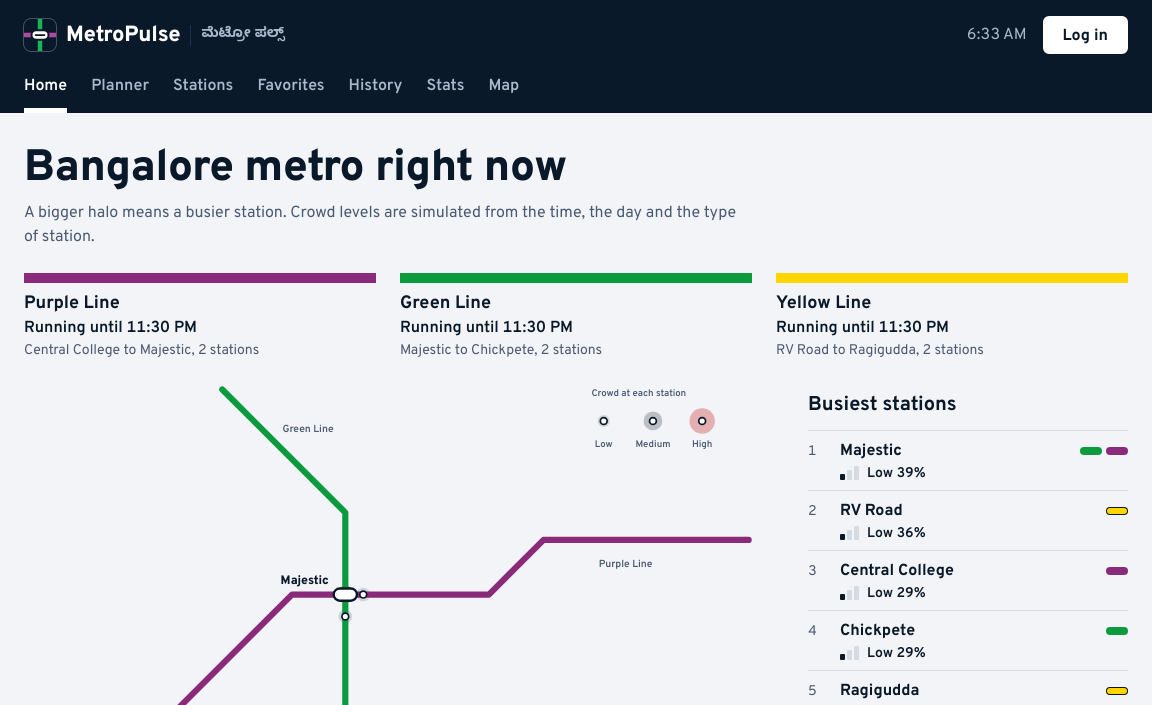
Test: a wrong password is not treated as an expired session
Expected: the heading "Bangalore metro right now" is shown, top-left (24, 141), bottom-right (567, 197)
Step 1. Click the button "Log in" → (1085, 35), box top-left (1042, 16), bottom-right (1128, 54)
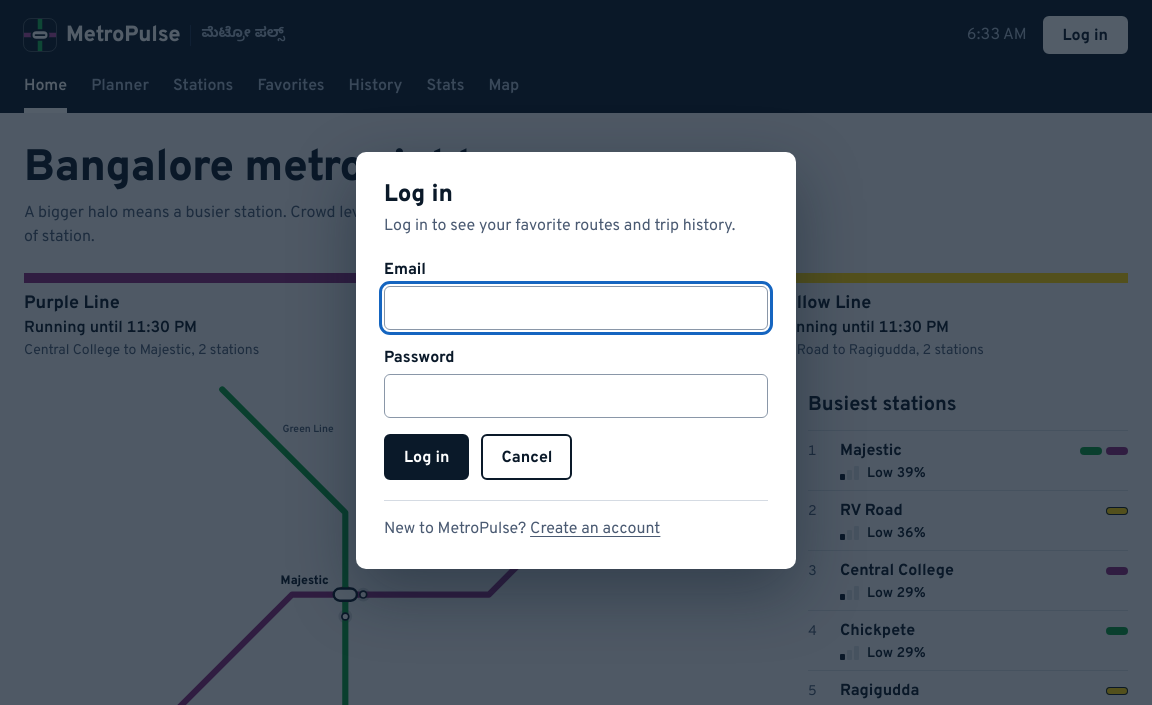
Step 2. Type "asha@example.com" into the field labelled "Email" → (576, 308), box top-left (384, 286), bottom-right (768, 330)
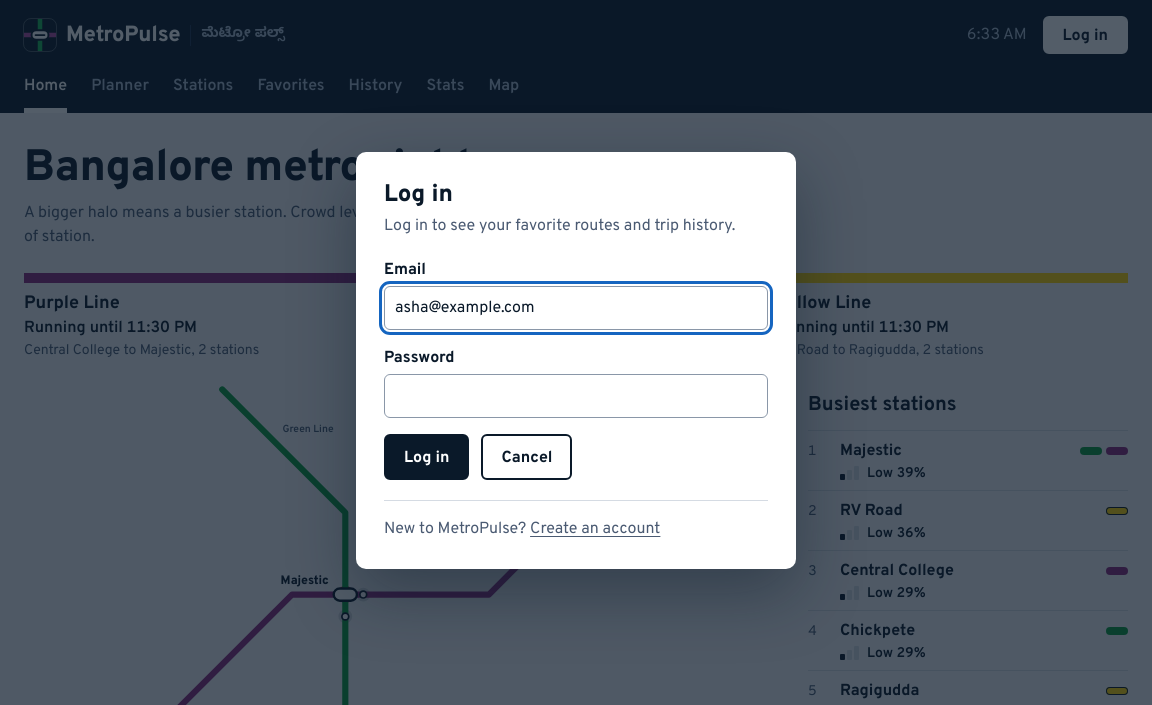
Step 3. Type "nope" into the password field labelled "Password" → (576, 396), box top-left (384, 374), bottom-right (768, 418)
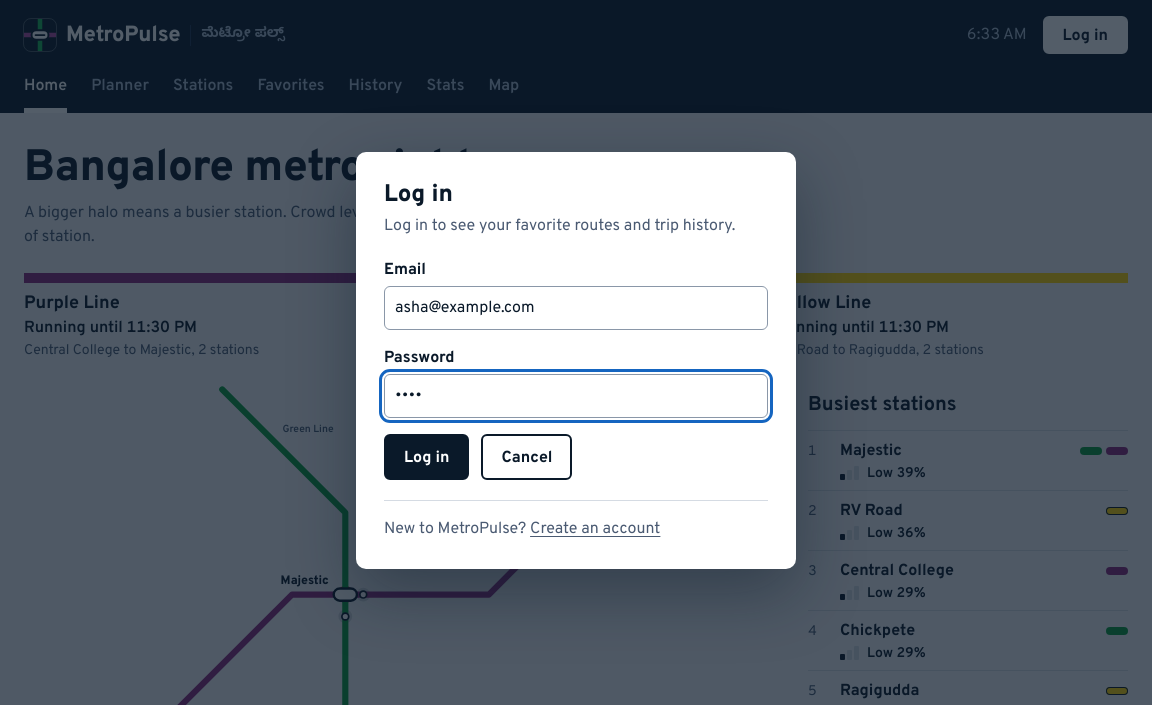
Step 4. Click the button "Log in" → (427, 456), box top-left (384, 434), bottom-right (470, 480)
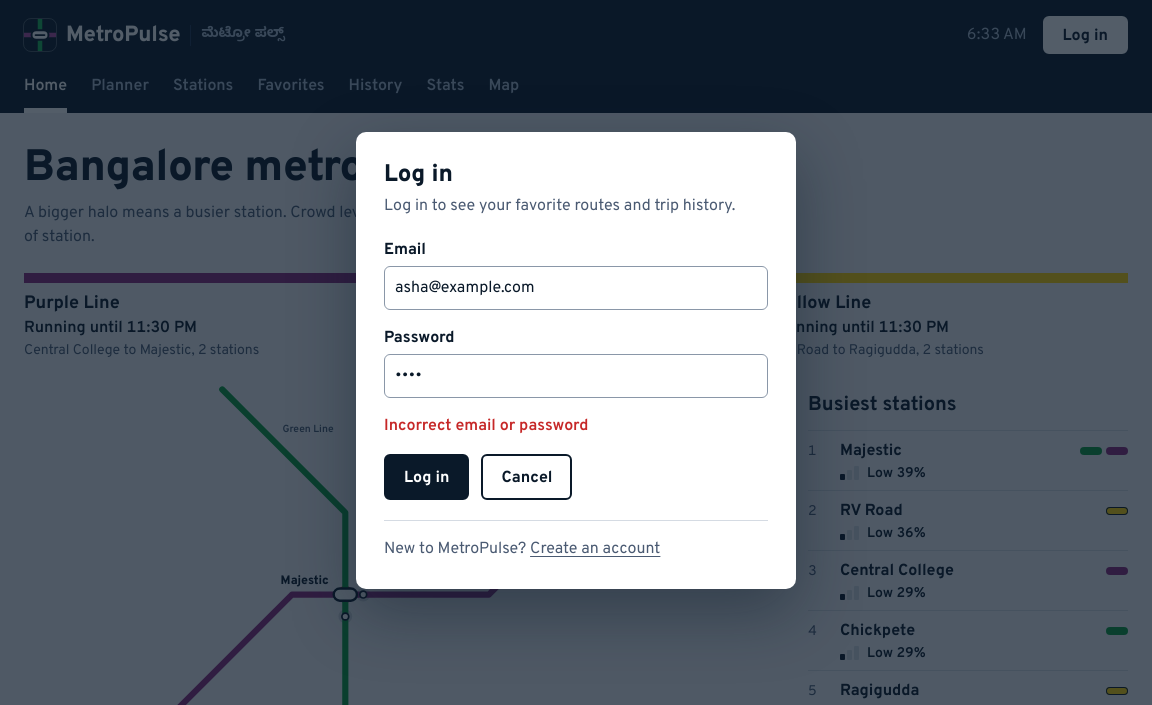
Expected: the message reads "Incorrect email or password", top-left (384, 416), bottom-right (588, 436)
